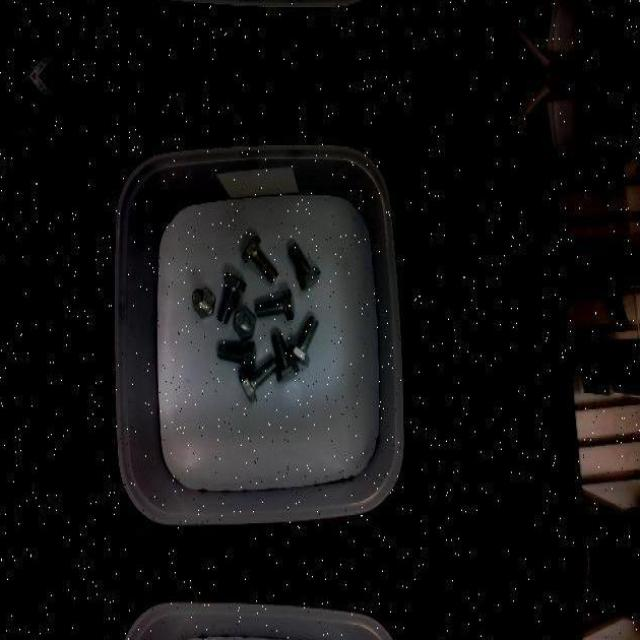screw: (239, 358, 277, 402), (242, 235, 278, 281), (218, 271, 247, 323), (290, 242, 322, 289), (290, 315, 320, 365), (272, 332, 300, 381), (217, 342, 258, 372), (257, 288, 296, 318), (233, 307, 256, 339), (192, 286, 215, 316)
